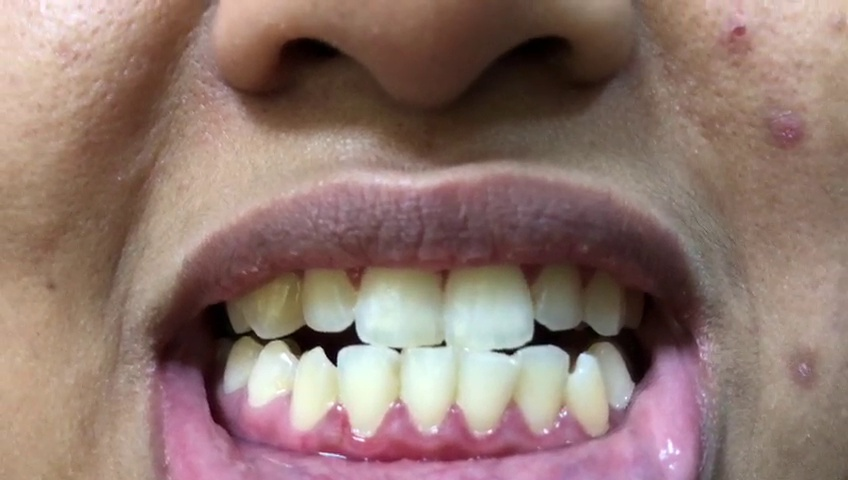1st Premolar: (590, 342, 635, 412), (247, 342, 294, 405)
2nd Premolar: (224, 336, 261, 396)
Canine: (238, 263, 302, 339), (289, 344, 336, 433), (567, 351, 610, 442), (584, 268, 623, 334)
Central Incisor: (443, 248, 535, 349), (355, 251, 446, 347), (454, 345, 520, 435), (398, 343, 453, 436)
Lateral Incisor: (336, 344, 397, 437), (513, 345, 568, 440), (530, 255, 584, 333), (303, 254, 357, 332)
